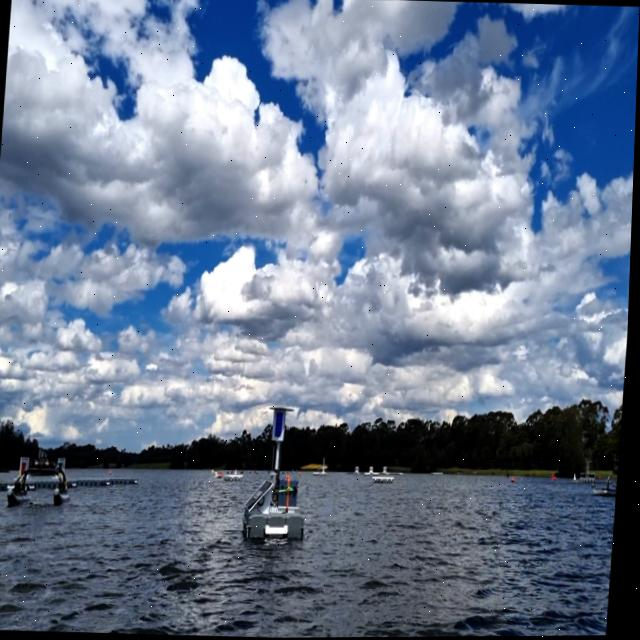led: (276, 409, 288, 439)
